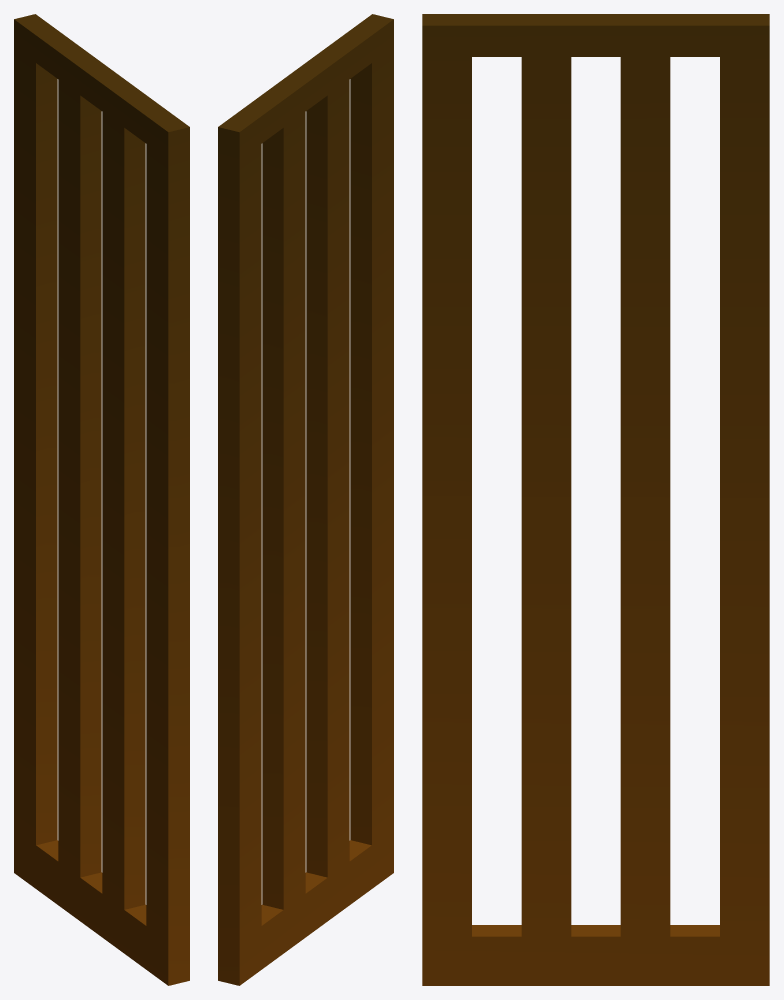
File: B01_Paravent.fbx
3 renders of one model, left to right at view 1: azimuth 30°, elevation 25°; view 2: azimuth 150°, elevation 25°; view 3: azimuth 270°, elevation 25°, orthographic. The views are drawn at different scales.
Visible parts, largest first — view 1: B01_Paravent; view 2: B01_Paravent; view 3: B01_Paravent.
Part boxes in pixels (x1,y1,x2,y2): B01_Paravent: [14, 14, 189, 985]; B01_Paravent: [218, 14, 393, 985]; B01_Paravent: [422, 14, 769, 985].
Bounding box in the file's own units: 8.03 × 305 × 100.
